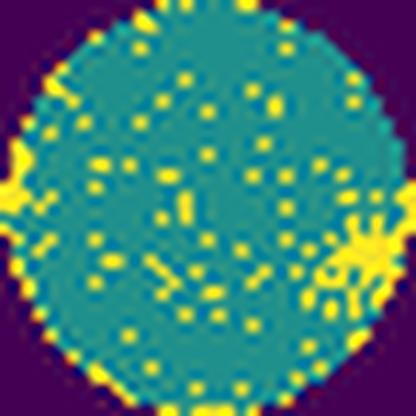Edge-Loc: (288, 179, 415, 323), (0, 136, 60, 213)
